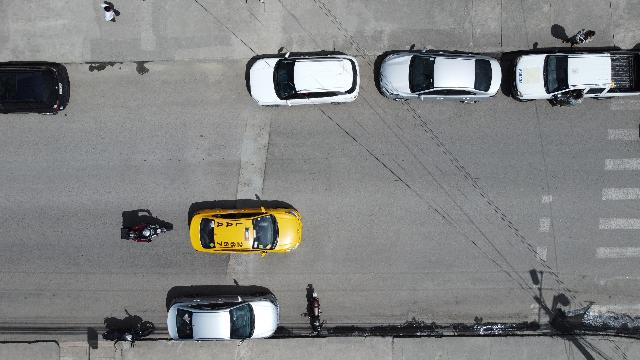Vehiculo: (374, 46, 502, 102), (510, 49, 640, 104), (244, 47, 360, 106), (188, 196, 302, 256), (166, 282, 280, 340), (0, 61, 70, 115)
